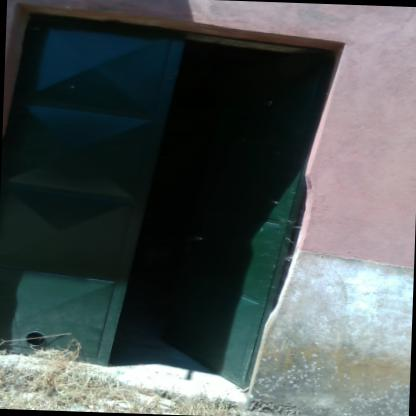open: (0, 2, 340, 402)
